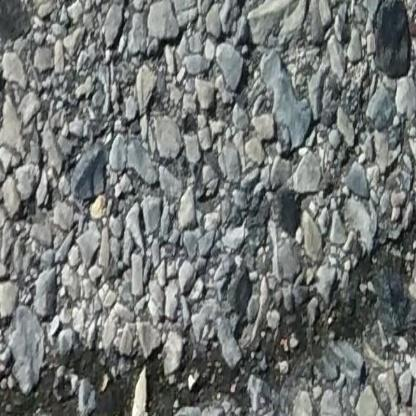Cracks: (0, 218, 416, 416)
